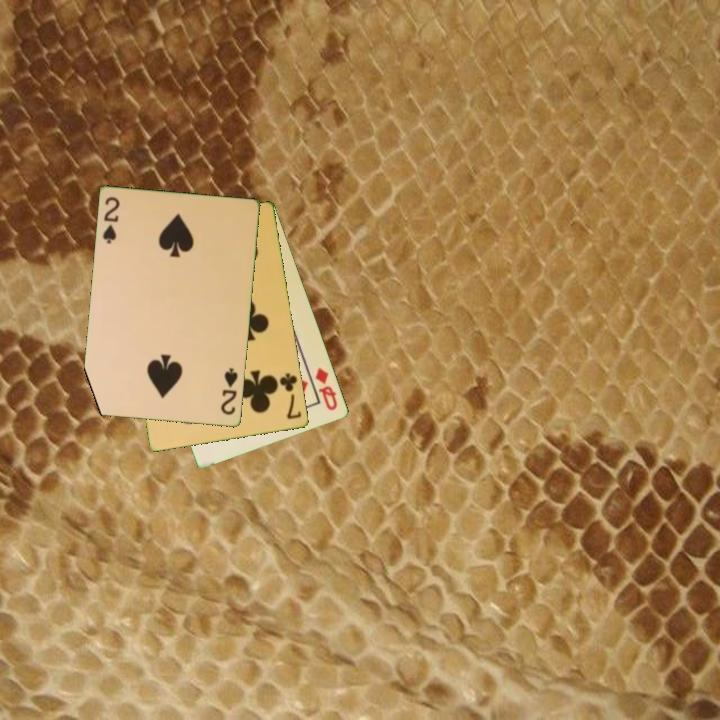2s: (99, 193, 123, 247), (218, 365, 241, 418)
7c: (276, 370, 304, 422)
Qd: (312, 364, 341, 414)
